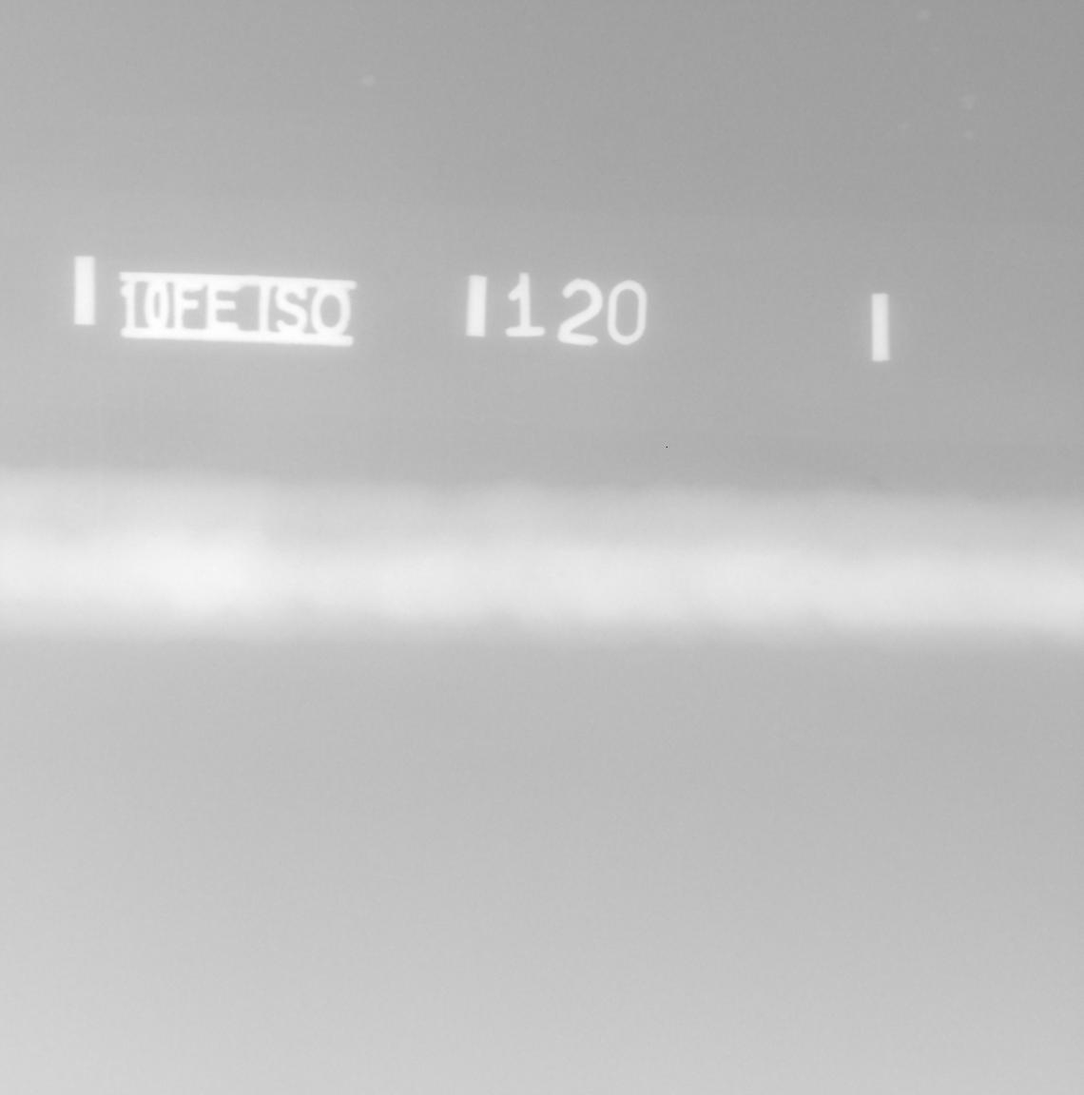Inclusion: (812, 581, 818, 585)
